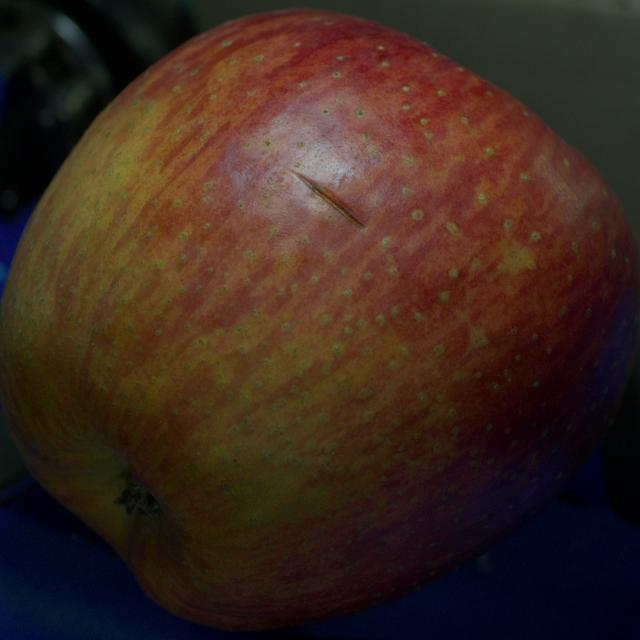apple: (0, 9, 639, 630)
scratch: (289, 170, 364, 228)
